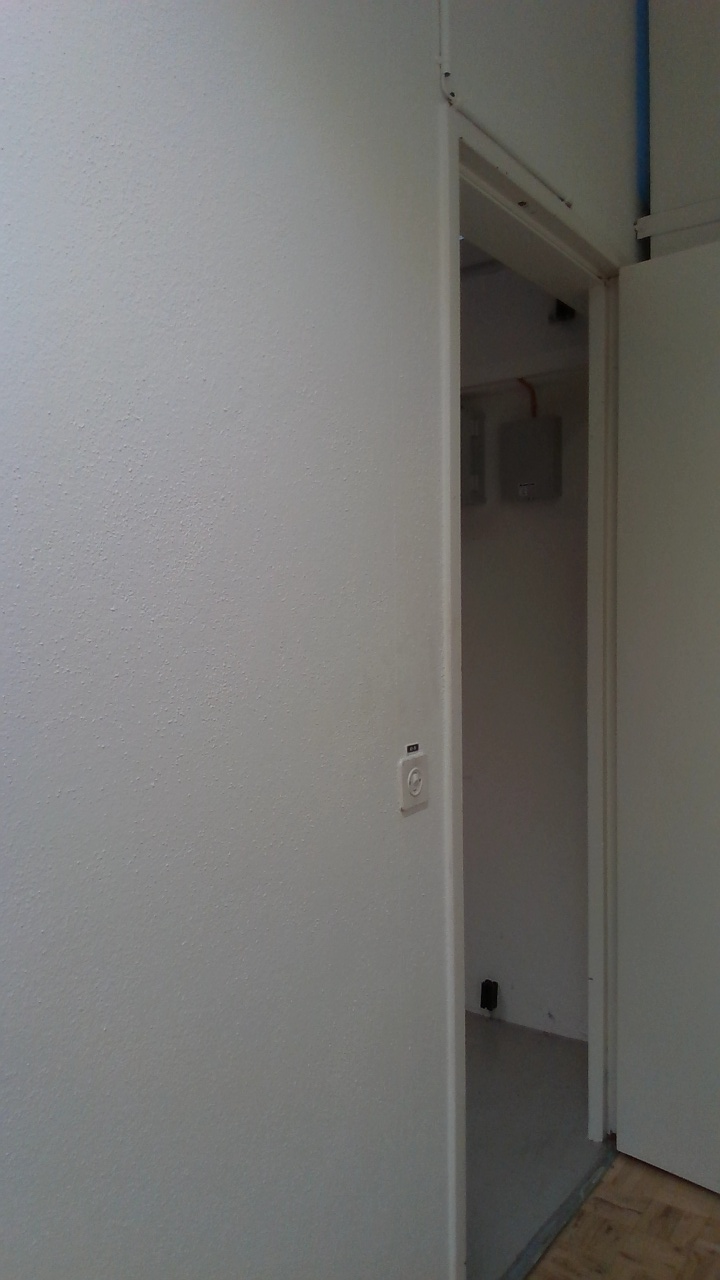Light_Switch: (395, 752, 435, 817)
